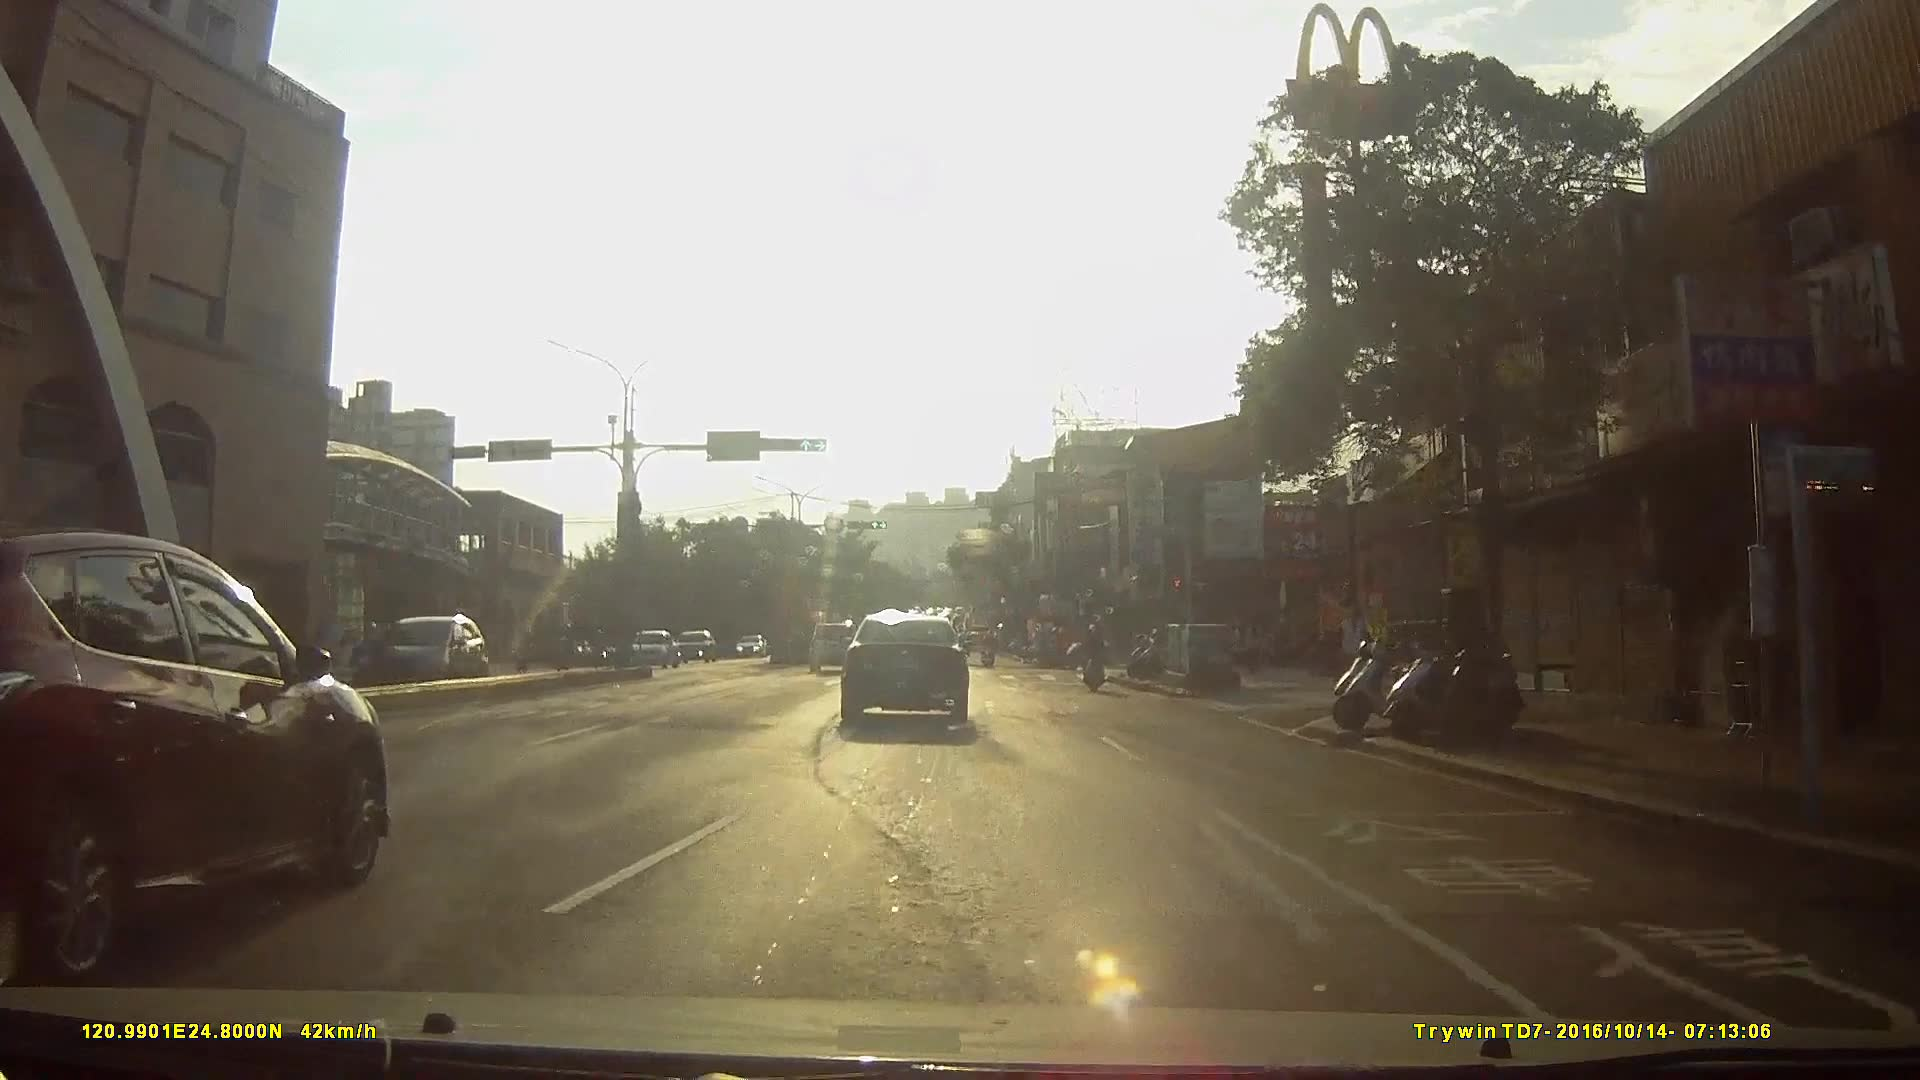pedestrian: (1336, 590, 1369, 688)
rider: (1079, 621, 1106, 692), (1038, 625, 1074, 667), (978, 627, 998, 667)
vehicle: (1, 518, 395, 992), (837, 611, 983, 735), (358, 605, 503, 691), (805, 616, 864, 671), (630, 631, 680, 672), (676, 627, 720, 667), (733, 628, 769, 656)
